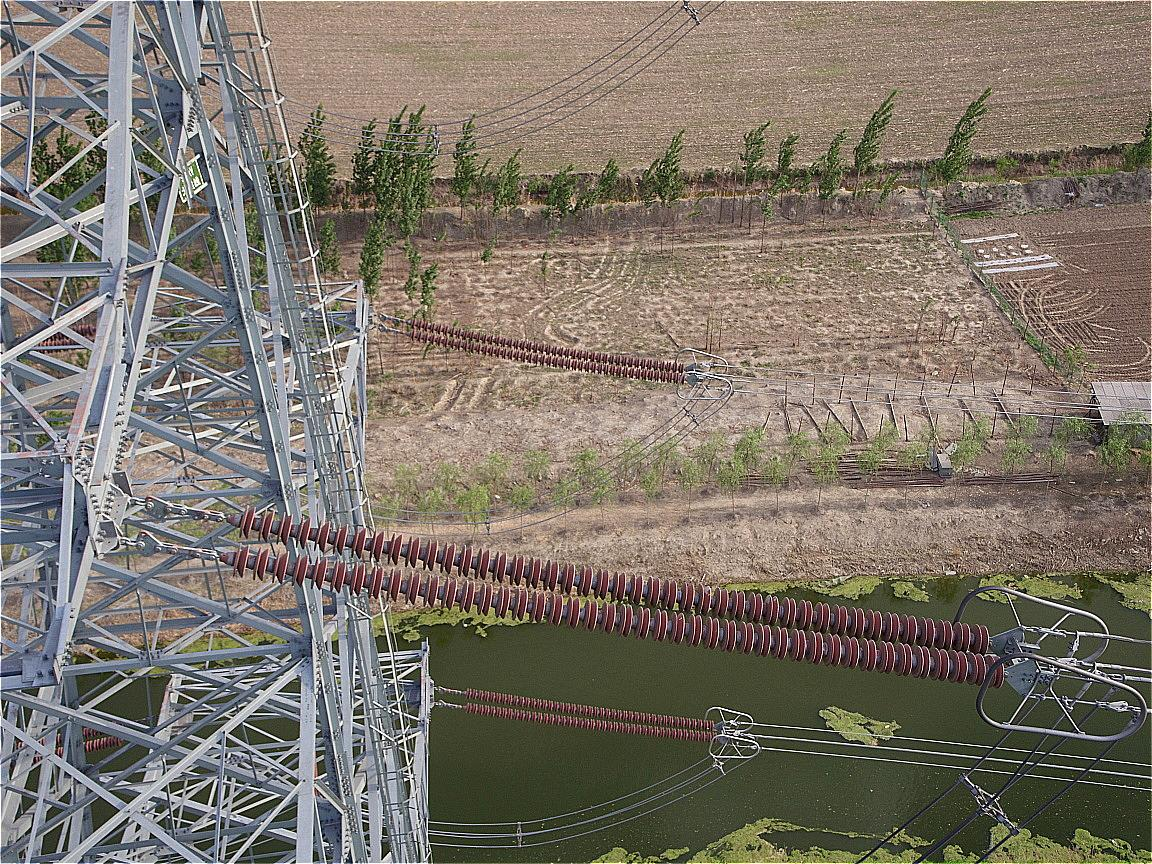insultor2: (230, 503, 1005, 689), (410, 318, 687, 386), (464, 687, 719, 744)
